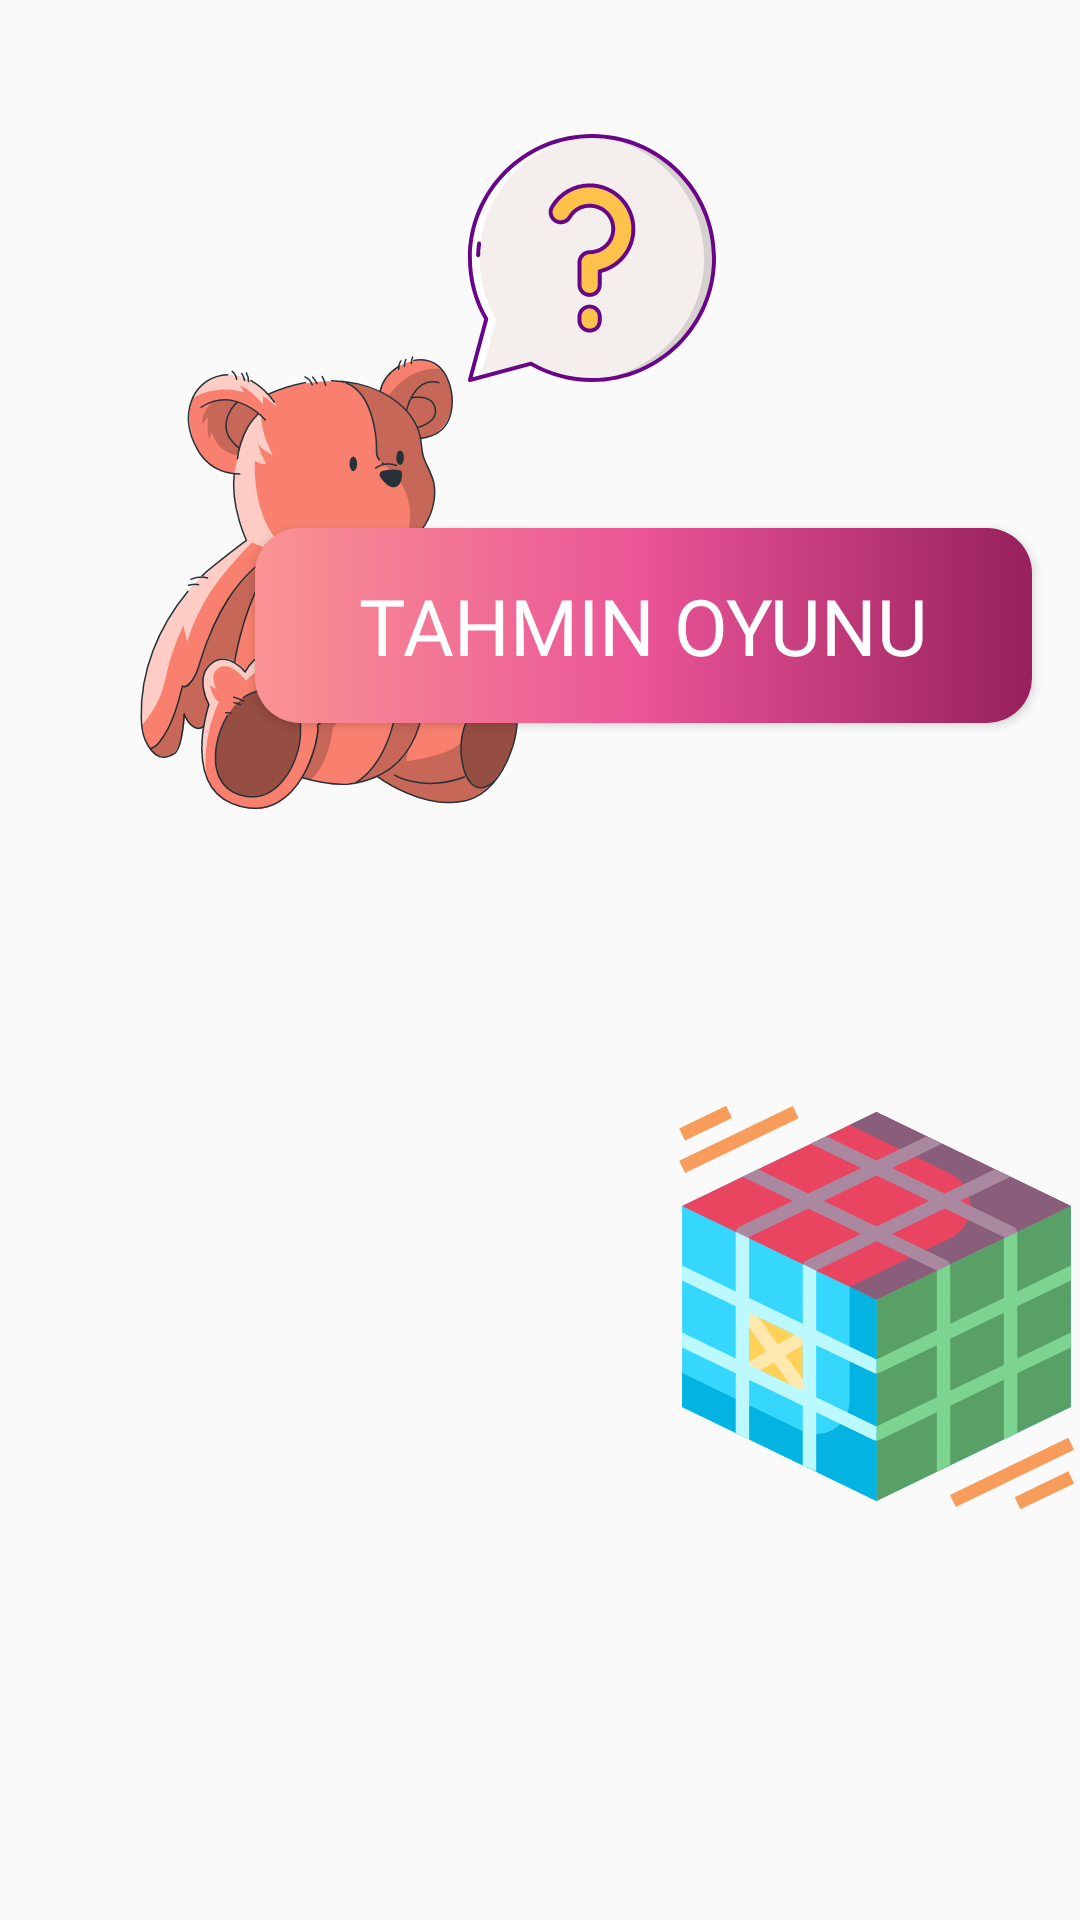

Screen size 1080px×1920px. Icon name, then its center in pixels as (x,y):
soru isareti: (591,258)
